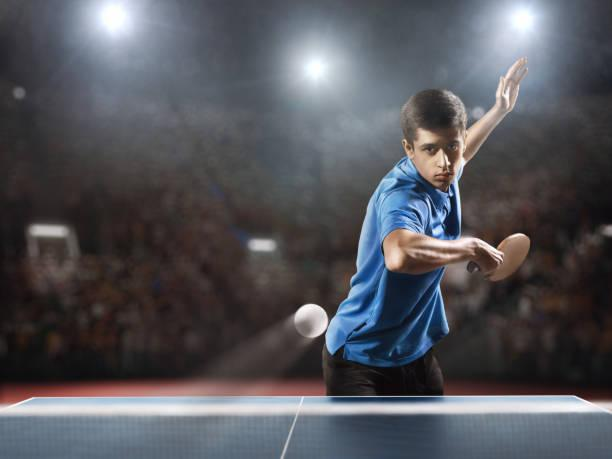ball_pingpong: (292, 302, 328, 340)
